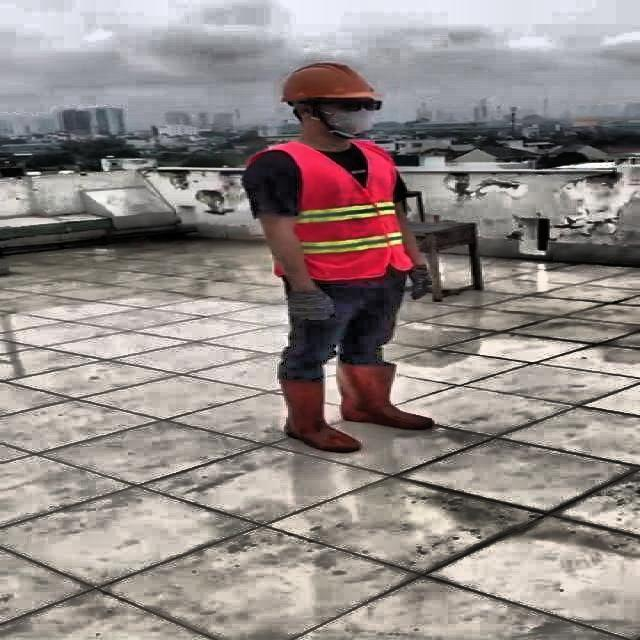safety_helmet: (278, 60, 380, 103)
safety_jacket: (245, 141, 410, 281)
